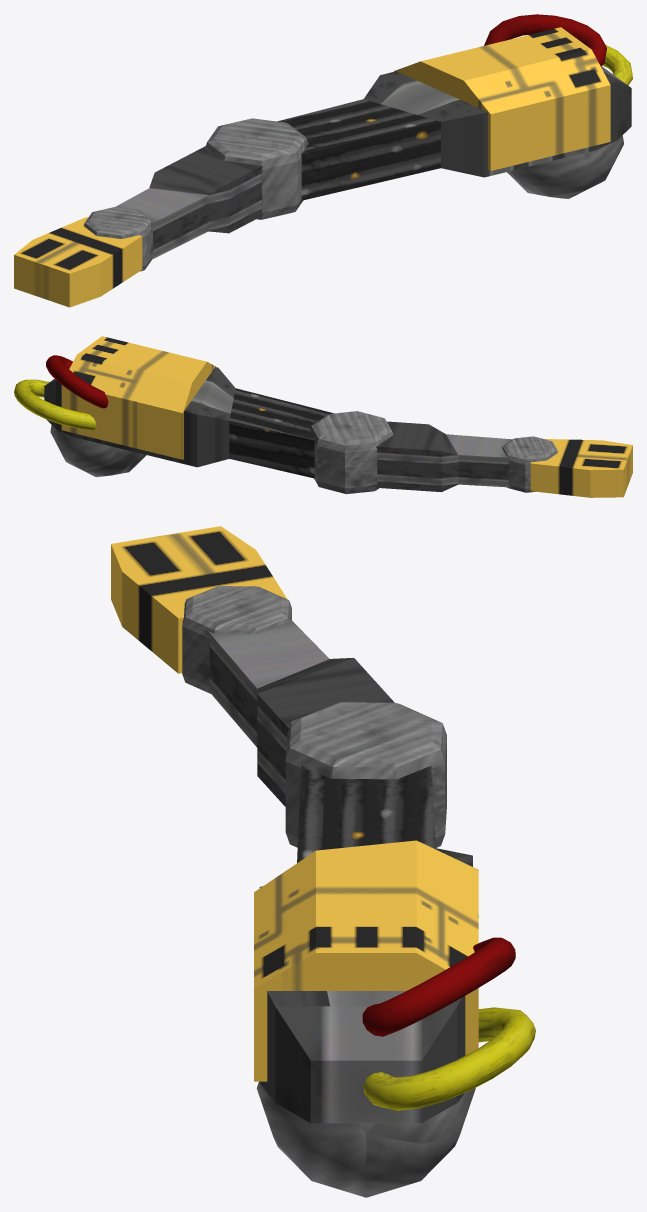
The model's file is Robot 9 R arm.fbx.
The picture shows the model from 3 angles, top to bottom: view 1: azimuth 30°, elevation 25°; view 2: azimuth 150°, elevation 25°; view 3: azimuth 270°, elevation 25°; orthographic projection. The views are drawn at different scales.
Parts seen in each view (by area): view 1: Icosphere.004, Cylinder, Cube.010; view 2: Icosphere.004, Cylinder, Cube.010; view 3: Icosphere.004, Cylinder, Cube.010.
Boxes of the visible parts, x1=… form: Icosphere.004: x1=277, y1=14, x2=632, y2=200; Cylinder: x1=83, y1=118, x2=308, y2=271; Cube.010: x1=14, y1=217, x2=142, y2=307; Icosphere.004: x1=14, y1=336, x2=333, y2=478; Cylinder: x1=309, y1=411, x2=557, y2=494; Cube.010: x1=530, y1=439, x2=632, y2=497; Icosphere.004: x1=254, y1=765, x2=535, y2=1197; Cylinder: x1=182, y1=586, x2=446, y2=847; Cube.010: x1=111, y1=526, x2=287, y2=673.
Bounding box in the file's own units: 539 × 113 × 179.
